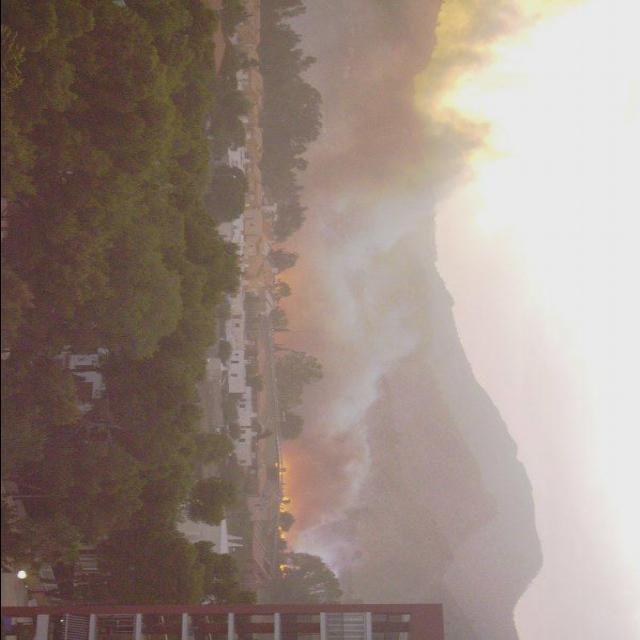Fire: (278, 464, 291, 513), (277, 529, 292, 539)
